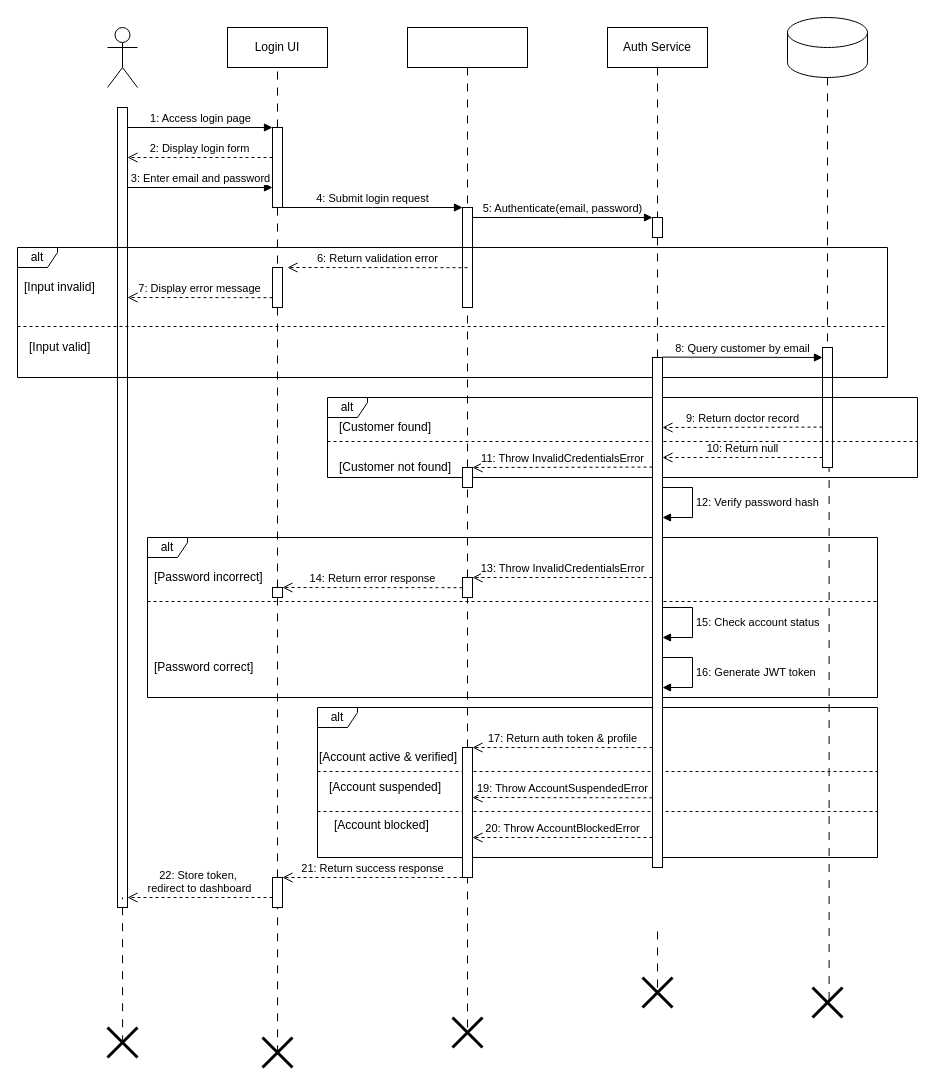
Some shapes in this 935 by 1086 pixel diagram are drawn without their labels. Each missing label, with the centre of its shape:
Auth Controller: [467,47]
Customer: [122,57]
Database: [827,47]
